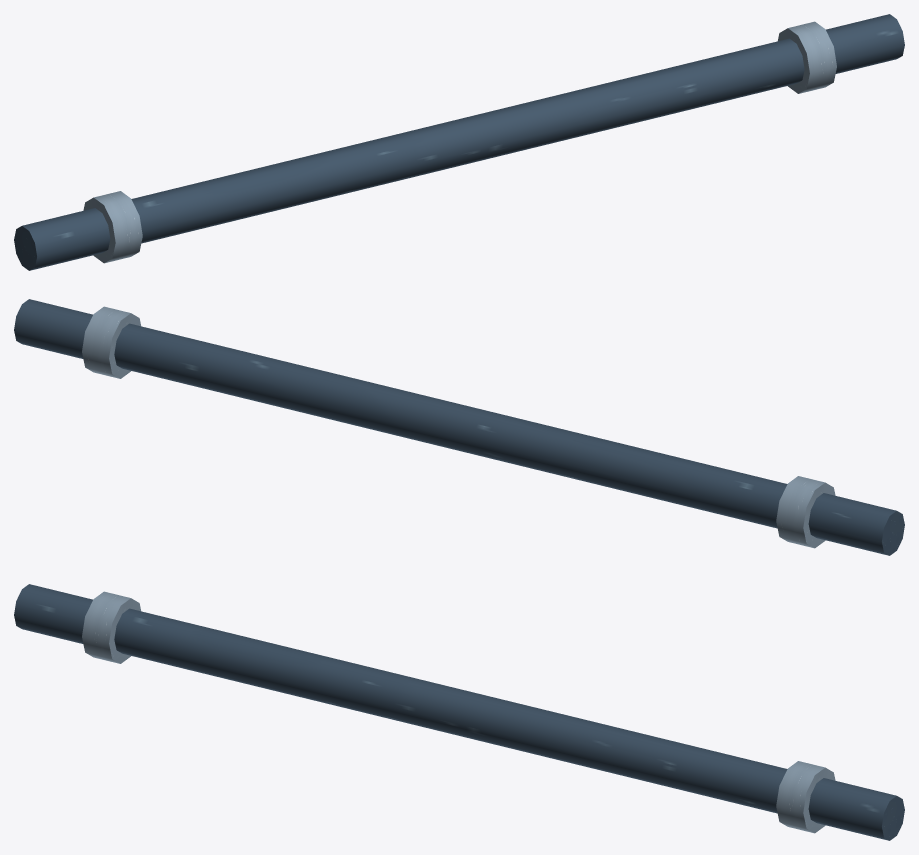
File: SM_Conduit_160.glb
The picture shows the model from 3 angles, top to bottom: view 1: azimuth 30°, elevation 25°; view 2: azimuth 150°, elevation 25°; view 3: azimuth 330°, elevation 25°; orthographic projection.
Parts seen in each view (by area): view 1: SM_Conduit_160; view 2: SM_Conduit_160; view 3: SM_Conduit_160.
Boxes of the visible parts, x1,y1,x2,y2 form: SM_Conduit_160: (14,14,904,270); SM_Conduit_160: (14,299,904,555); SM_Conduit_160: (14,584,904,840).
Bounding box in the file's own units: 1.6 × 0.1027 × 0.108.
Materials: 1 (1 with a texture image).
